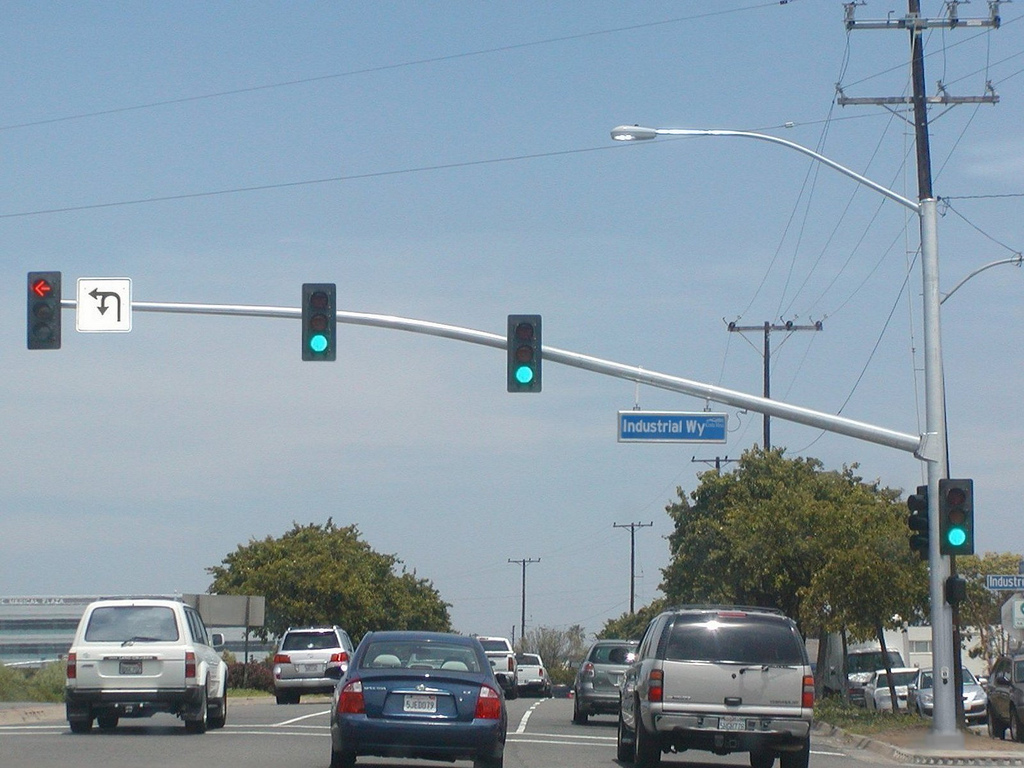traffic_light: (505, 313, 544, 394), (937, 477, 976, 557), (25, 270, 63, 351), (300, 282, 338, 363)
